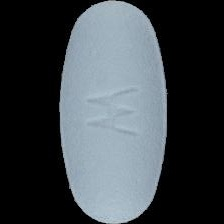0143-9581: (0, 0, 224, 224)
